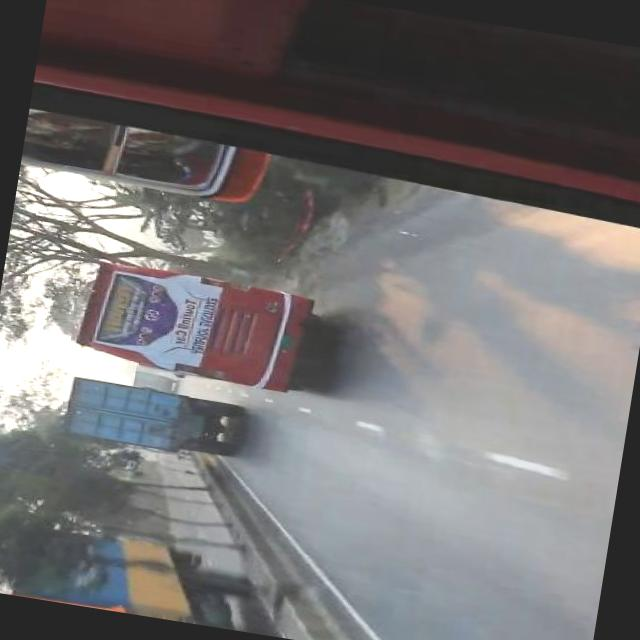bus: (76, 255, 314, 392)
truck: (24, 517, 242, 629), (58, 372, 239, 462), (128, 366, 176, 388)
